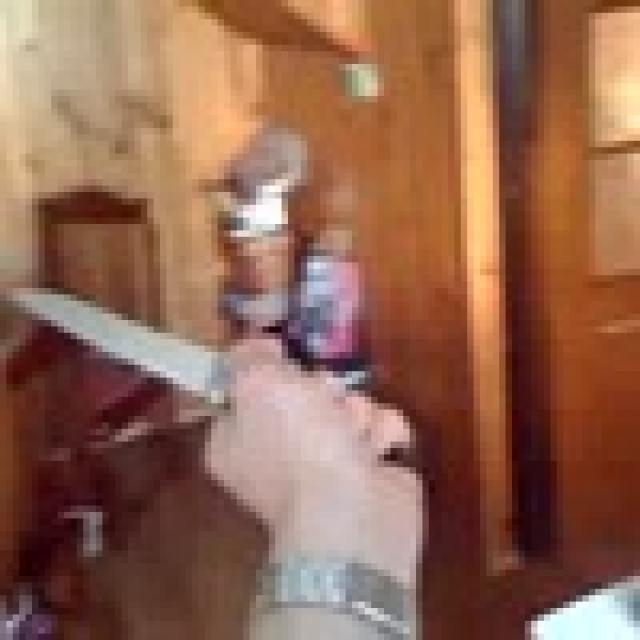weapon: (7, 275, 250, 416)
